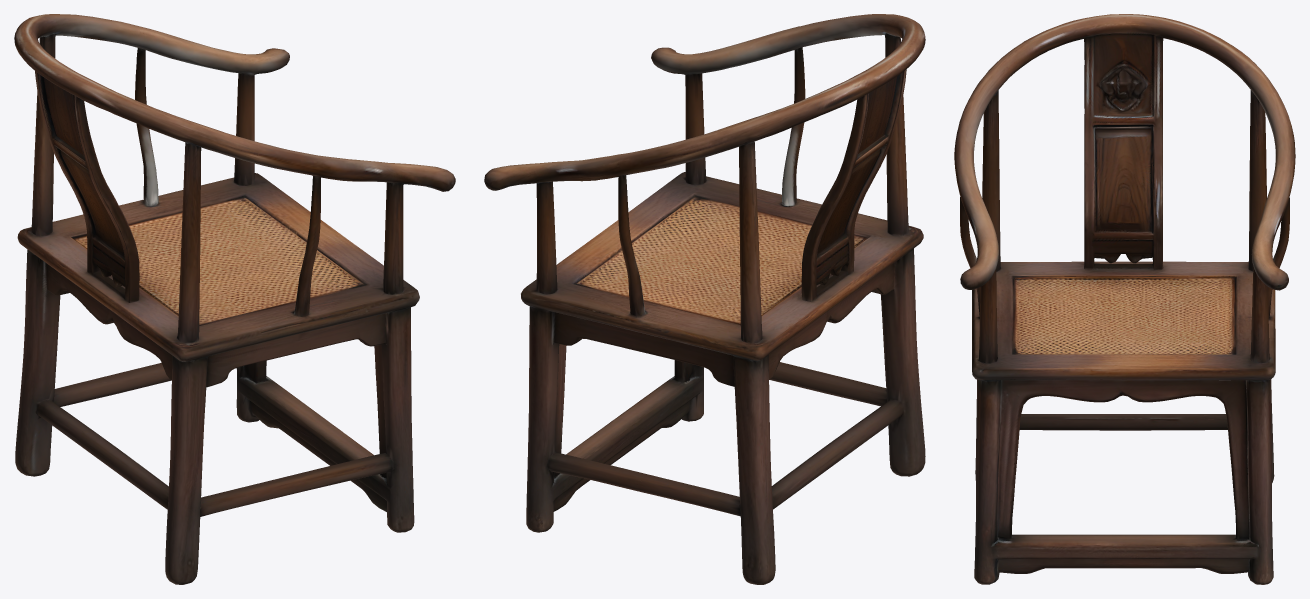
Rendered from f_quanyi.glb.
3 views of the same model, side by side, from view 1: azimuth 30°, elevation 25°; view 2: azimuth 150°, elevation 25°; view 3: azimuth 270°, elevation 25° (orthographic). The views are drawn at different scales.
Visible parts, largest first — view 1: tripo_node_f69cb487-65fa-45be-b915-087b3d724ca5; view 2: tripo_node_f69cb487-65fa-45be-b915-087b3d724ca5; view 3: tripo_node_f69cb487-65fa-45be-b915-087b3d724ca5.
Part boxes in pixels (bbox=[...]): tripo_node_f69cb487-65fa-45be-b915-087b3d724ca5: bbox=[14, 14, 455, 584]; tripo_node_f69cb487-65fa-45be-b915-087b3d724ca5: bbox=[484, 14, 925, 584]; tripo_node_f69cb487-65fa-45be-b915-087b3d724ca5: bbox=[954, 14, 1295, 584].
Bounding box in the file's own units: 0.7186 × 0.9999 × 0.6969.
Materials: 1 (1 with a texture image).
